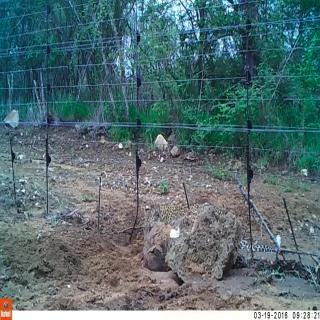Leopard: (145, 194, 224, 288)
